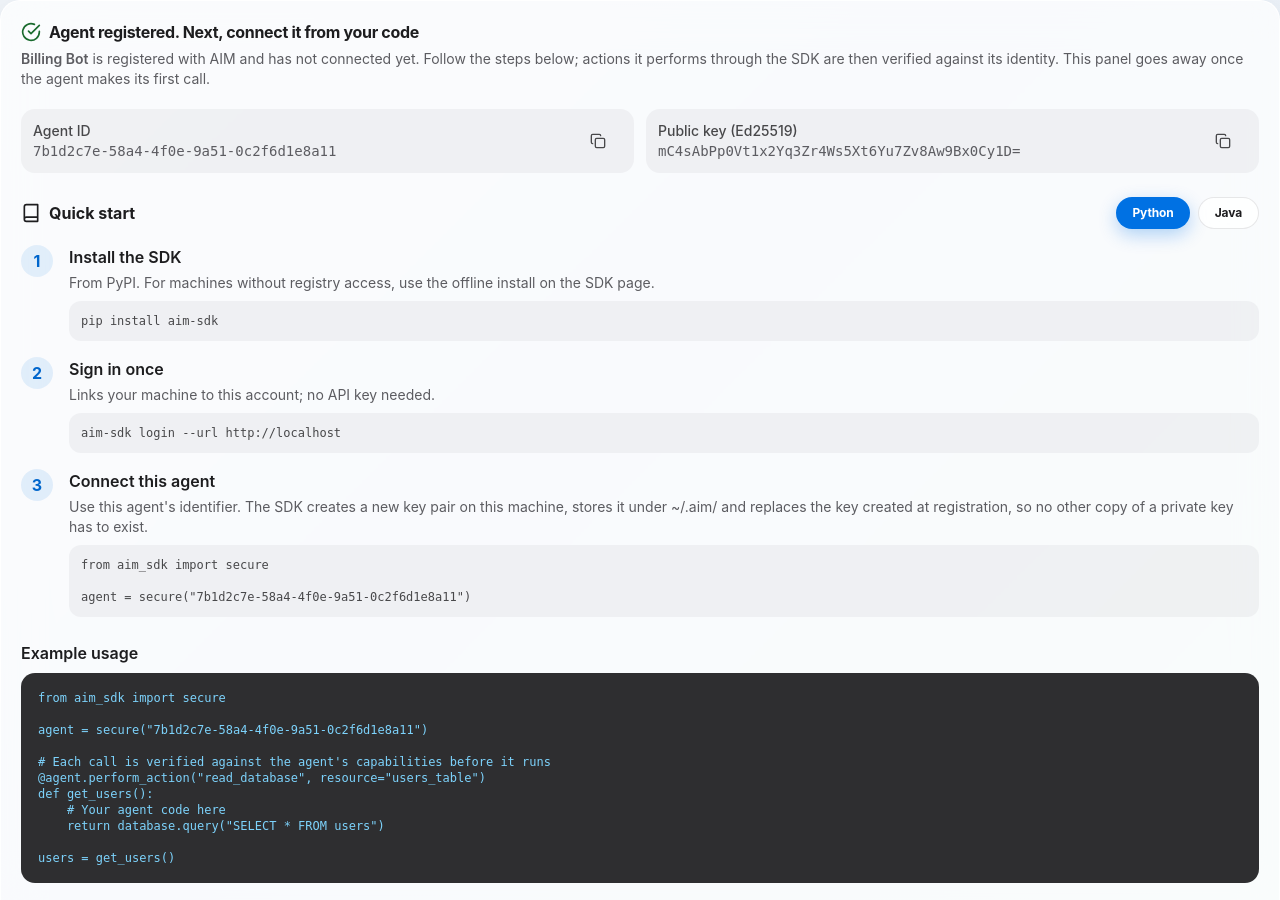
Test: FirstRunPanel, first run › switches to the Java steps: the shared quickstart, connected by this agent's name
Click the button "Java" at (1228, 213), box [1198,197,1259,229]
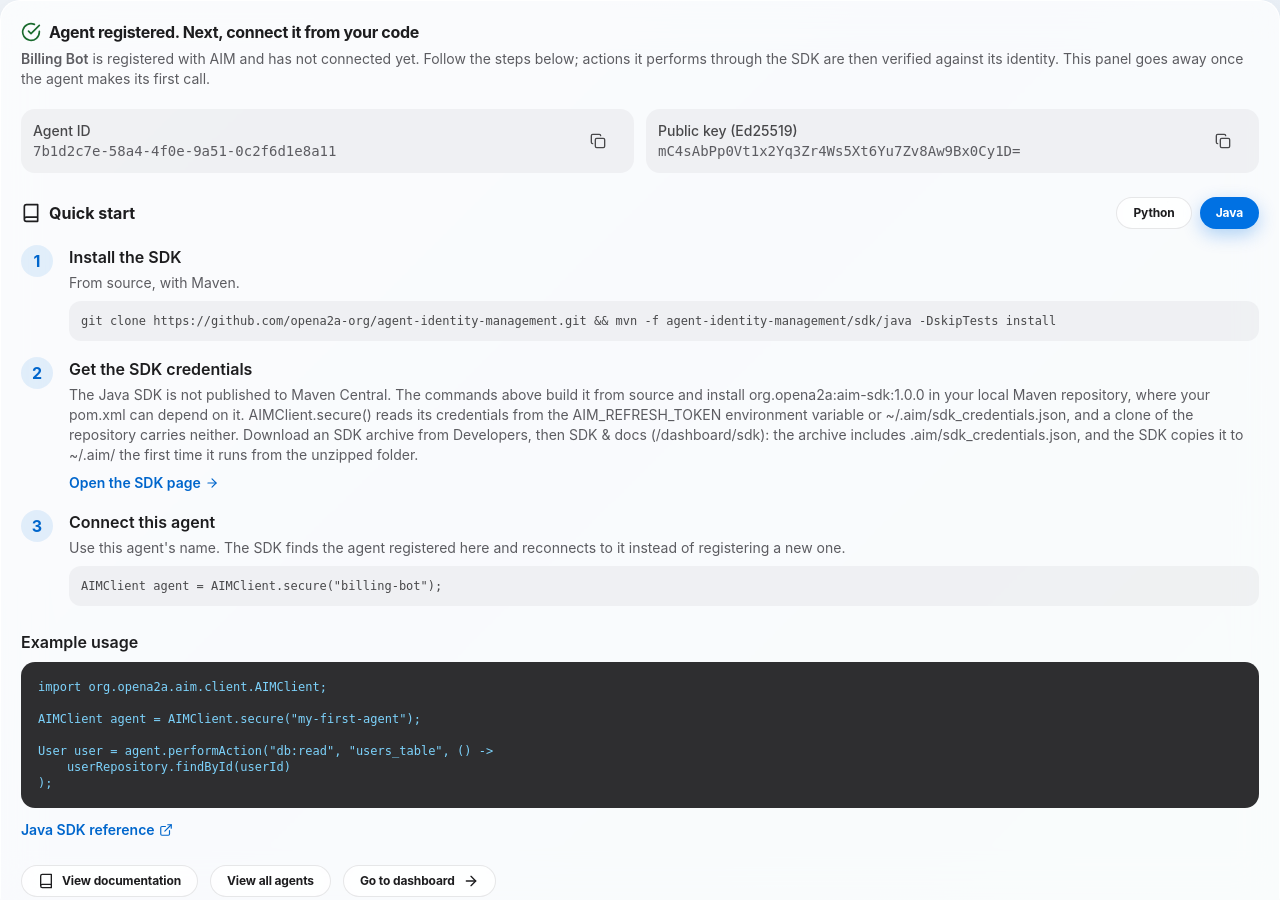
Expected: the text "pip install aim-sdk" is gone
Expected: the text "git clone https://github.com/opena2a-org/agent-identity-management.git && mvn -f agent-identity-management/sdk/java -Dsk" is shown, [81,314,1056,328]
Expected: the text "AIMClient agent = AIMClient.secure(\"billing-bot\");" is shown, [81,579,442,593]
